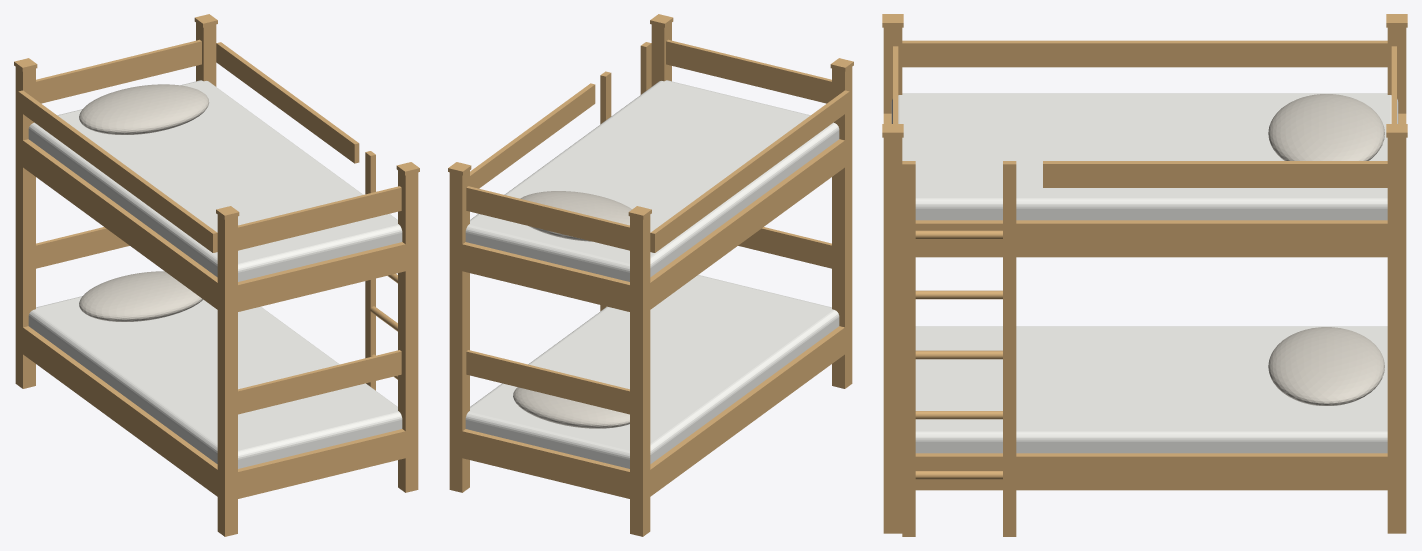
File: 031_twin_over_twin_bunk_bed.glb
The picture shows the model from 3 angles, left to right: view 1: azimuth 30°, elevation 25°; view 2: azimuth 150°, elevation 25°; view 3: azimuth 270°, elevation 25°; orthographic projection. The views are drawn at different scales.
Visible parts, largest first — view 1: 013_lower_mattress, 020_upper_mattress, 002_corner_post, 008_lower_side_rail_l, 015_upper_side_rail_l, 006_corner_post, 000_corner_post, 011_lower_end_rail_foot, 018_upper_end_rail_foot, 021_upper_pillow, 027_guard_rail_far, 014_lower_pillow (+7 smaller); view 2: 013_lower_mattress, 020_upper_mattress, 000_corner_post, 008_lower_side_rail_l, 015_upper_side_rail_l, 004_corner_post, 002_corner_post, 010_lower_end_rail_head, 017_upper_end_rail_head, 027_guard_rail_far, 025_foot_board_rail, 023_head_board_rail (+8 smaller); view 3: 013_lower_mattress, 020_upper_mattress, 009_lower_side_rail_r, 016_upper_side_rail_r, 027_guard_rail_far, 026_guard_rail, 004_corner_post, 006_corner_post, 014_lower_pillow, 021_upper_pillow, 028_ladder_stile_1, 029_ladder_stile_2 (+7 smaller).
Part boxes in pixels (bbox=[...]): 013_lower_mattress: bbox=[28, 296, 402, 468]; 020_upper_mattress: bbox=[28, 80, 402, 281]; 002_corner_post: bbox=[217, 215, 237, 536]; 008_lower_side_rail_l: bbox=[23, 326, 217, 496]; 015_upper_side_rail_l: bbox=[23, 139, 217, 309]; 006_corner_post: bbox=[398, 170, 418, 492]; 000_corner_post: bbox=[15, 67, 35, 388]; 011_lower_end_rail_foot: bbox=[238, 429, 405, 498]; 018_upper_end_rail_foot: bbox=[238, 242, 405, 311]; 021_upper_pillow: bbox=[79, 84, 209, 134]; 027_guard_rail_far: bbox=[18, 90, 217, 252]; 014_lower_pillow: bbox=[79, 271, 203, 321]; 013_lower_mattress: bbox=[465, 275, 839, 468]; 020_upper_mattress: bbox=[465, 80, 839, 281]; 000_corner_post: bbox=[630, 215, 650, 536]; 008_lower_side_rail_l: bbox=[650, 326, 844, 496]; 015_upper_side_rail_l: bbox=[650, 139, 844, 309]; 004_corner_post: bbox=[449, 170, 469, 492]; 002_corner_post: bbox=[832, 67, 852, 388]; 010_lower_end_rail_head: bbox=[462, 429, 629, 498]; 017_upper_end_rail_head: bbox=[462, 242, 629, 311]; 027_guard_rail_far: bbox=[650, 90, 849, 252]; 025_foot_board_rail: bbox=[666, 39, 831, 103]; 023_head_board_rail: bbox=[466, 186, 629, 250]; 013_lower_mattress: bbox=[915, 326, 1387, 453]; 020_upper_mattress: bbox=[891, 93, 1398, 220]; 009_lower_side_rail_r: bbox=[915, 453, 1387, 490]; 016_upper_side_rail_r: bbox=[915, 220, 1387, 257]; 027_guard_rail_far: bbox=[902, 40, 1387, 67]; 026_guard_rail: bbox=[1043, 161, 1387, 187]; 004_corner_post: bbox=[1387, 137, 1406, 533]; 006_corner_post: bbox=[883, 137, 902, 533]; 014_lower_pillow: bbox=[1268, 327, 1384, 405]; 021_upper_pillow: bbox=[1268, 94, 1384, 160]; 028_ladder_stile_1: bbox=[1003, 161, 1016, 536]; 029_ladder_stile_2: bbox=[902, 161, 915, 536].
Bounding box in the file's own units: 1.11 × 1.67 × 1.98.
